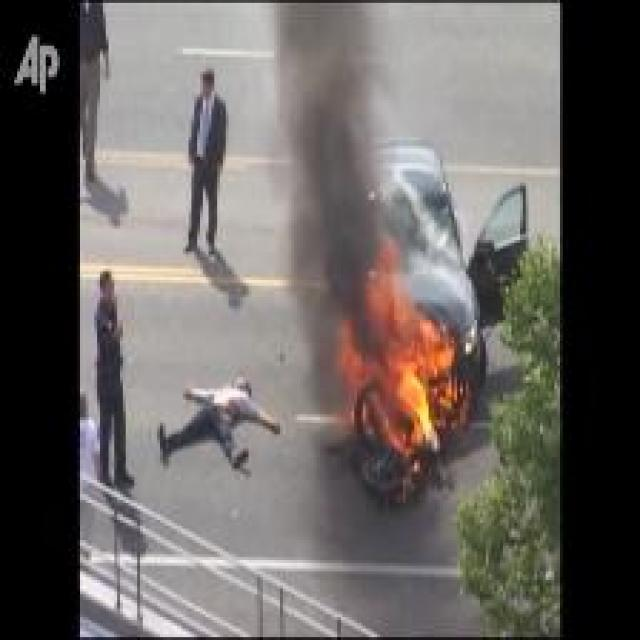Fire: (333, 224, 461, 459)
